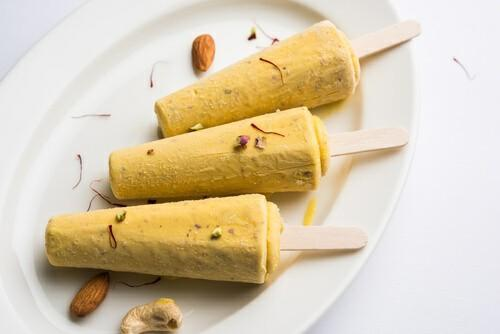Kulfi: (44, 193, 281, 287), (152, 18, 359, 121), (106, 105, 330, 200)
